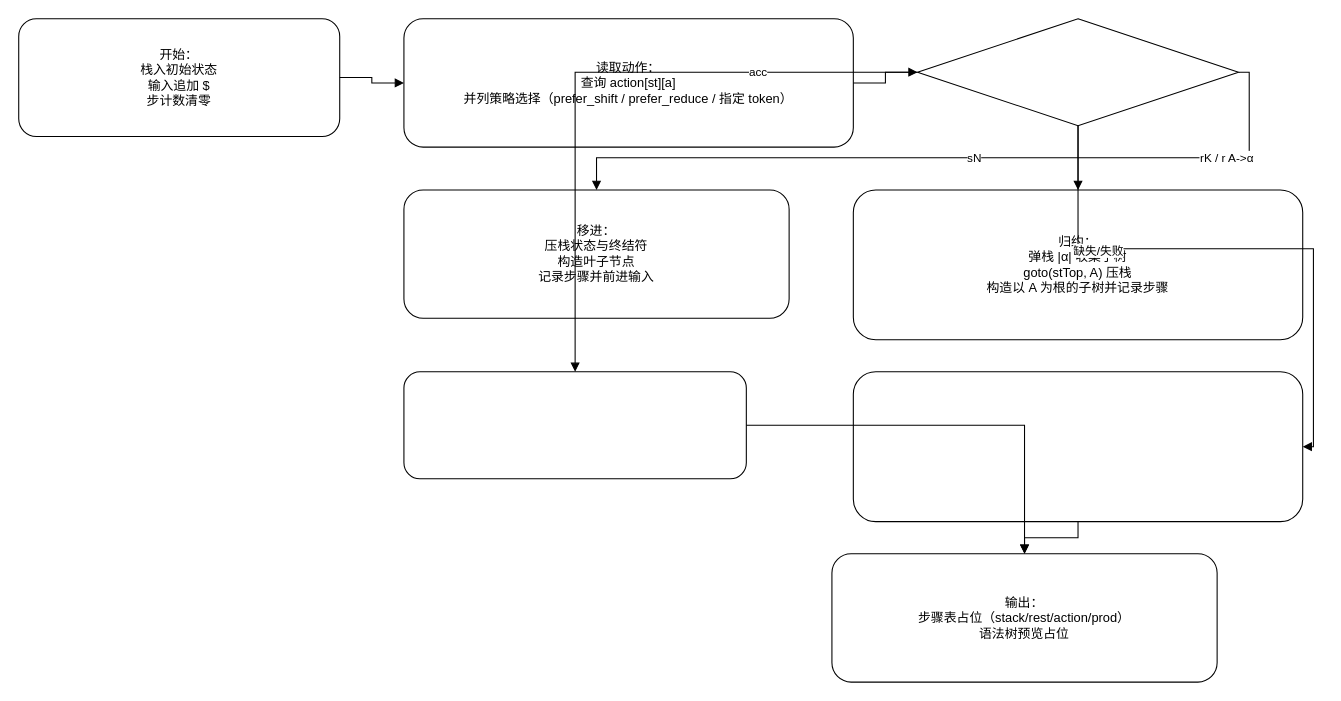
The diagram is 1341 pixels wide and 701 high, and some of its shapes have lost their labels. The centre of each missing label's shape, as x and y in pixels:
"判定： 动作类型？（sN / rK / acc / 缺失）" goes at [1077,72].
"接受： 设语法树根并终止分析 记录最终步骤" goes at [574,425].
"错误： 缺动作或 goto 失败 记录错误步骤并终止 若上一步为移进且有下一前瞻 可重试一次" goes at [1077,446].
